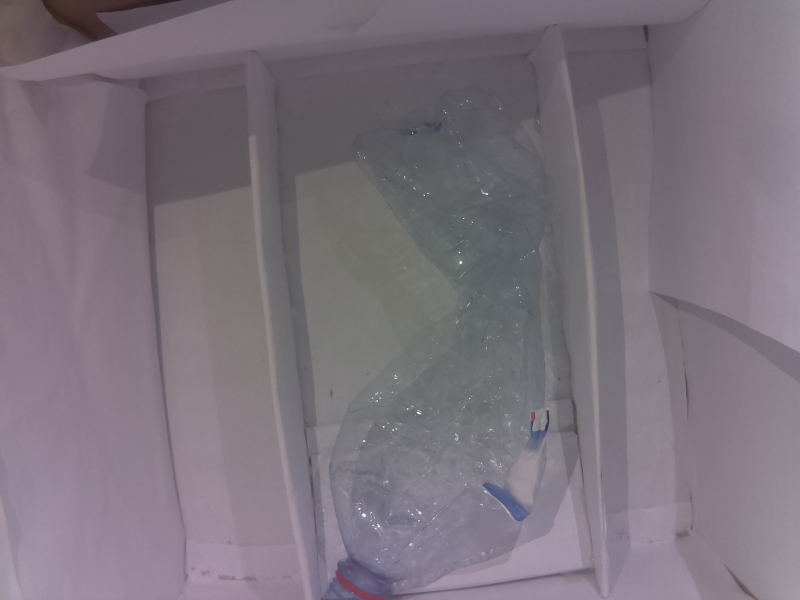botolplastik: (321, 86, 548, 600)
